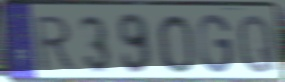3: (78, 14, 113, 75)
9: (116, 11, 155, 77)
G: (196, 12, 234, 76)
O: (155, 13, 197, 75)
Q: (236, 12, 278, 76)
R: (34, 14, 78, 74)
